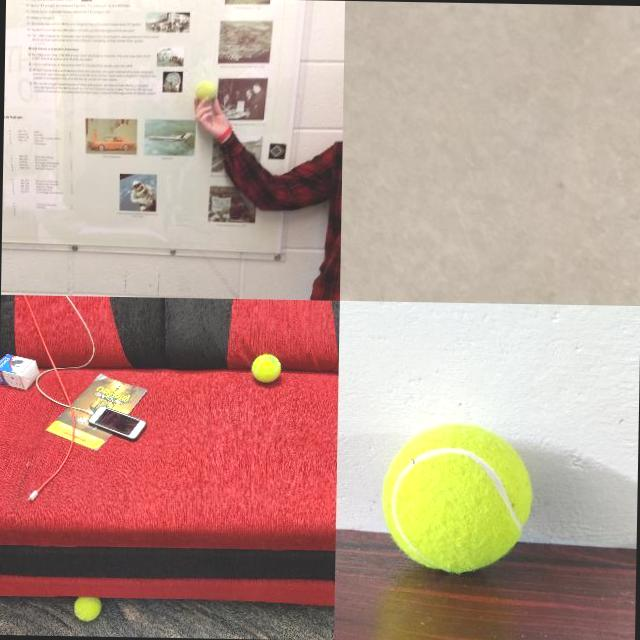tennis-ball: (379, 421, 534, 574), (251, 352, 280, 382), (73, 598, 101, 621), (194, 80, 216, 103)
